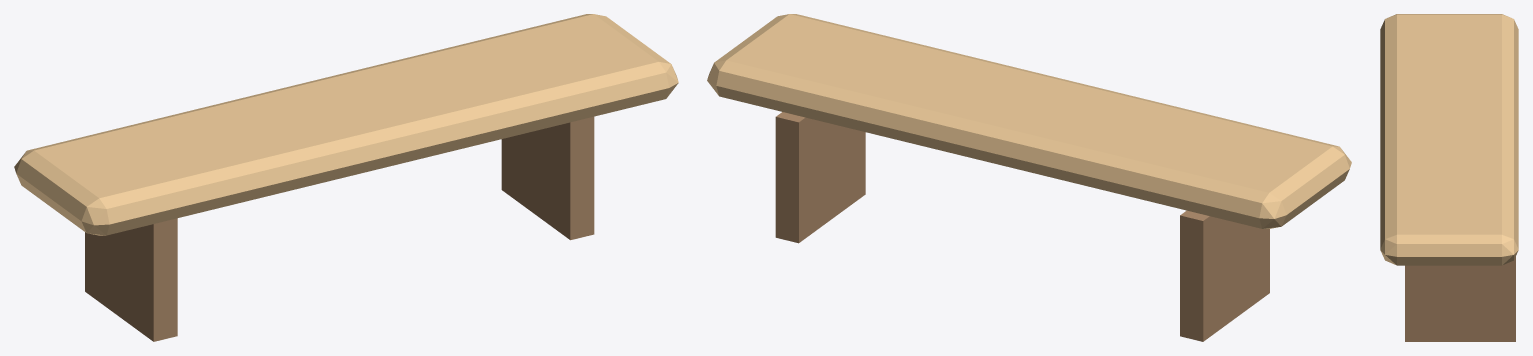
Rendered from cozy-home-interiors-wall-shelf-cf54b3dc.glb.
The picture shows the model from 3 angles, left to right: view 1: azimuth 30°, elevation 25°; view 2: azimuth 150°, elevation 25°; view 3: azimuth 270°, elevation 25°; orthographic projection. The views are drawn at different scales.
Visible parts, largest first — view 1: wall-shelf; view 2: wall-shelf; view 3: wall-shelf.
Part boxes in pixels (x1,y1,x2,y2): wall-shelf: [14, 14, 678, 341]; wall-shelf: [707, 14, 1351, 341]; wall-shelf: [1380, 14, 1518, 341].
Size of the model in its own units: 1 by 0.26 by 0.25.
